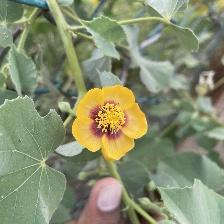indian mallow: (74, 85, 151, 159)
